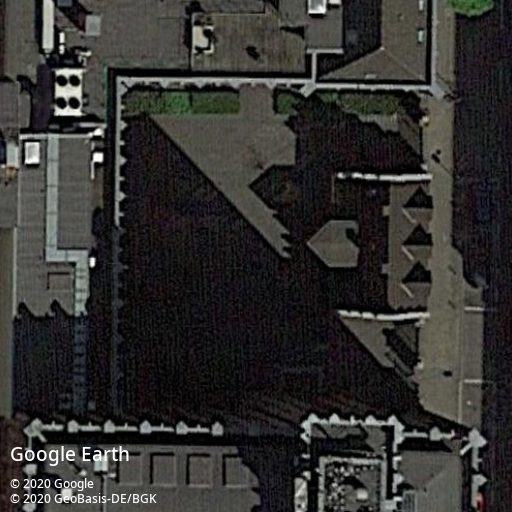Chiller: (53, 68, 83, 116)
